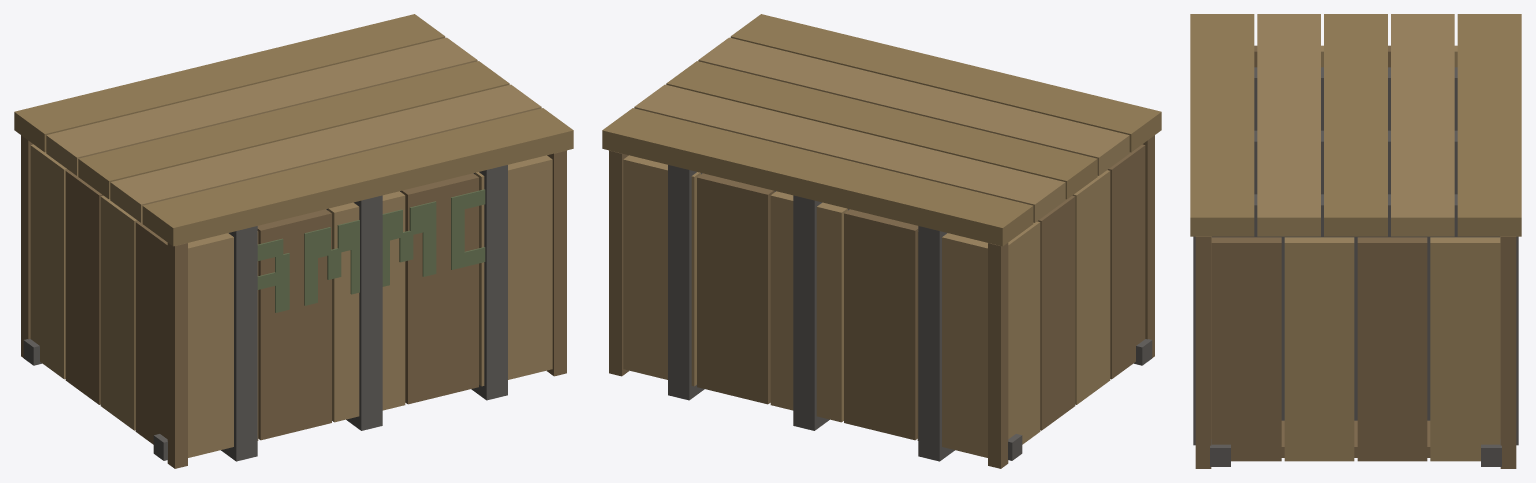
Rendered from yard_crate.glb.
The picture shows the model from 3 angles, left to right: view 1: azimuth 30°, elevation 25°; view 2: azimuth 150°, elevation 25°; view 3: azimuth 270°, elevation 25°; orthographic projection. The views are drawn at different scales.
Parts seen in each view (by area): view 1: CrateLid_0, CrateLid_1, CrateLid_4, CrateLid_2, CrateLid_3, CrateSlat_f_1, CrateSlat_f_3, CrateSlat_f_4, CrateSlat_f_0, CrateSlat_f_2, CrateSide_l_1, CrateSide_l_2 (+14 smaller); view 2: CrateLid_4, CrateSlat_b_3, CrateSlat_b_1, CrateLid_3, CrateLid_0, CrateLid_2, CrateLid_1, CrateSlat_b_2, CrateSlat_b_4, CrateSlat_b_0, CrateSide_l_2, CrateSide_l_1 (+8 smaller); view 3: CrateSide_r_1, CrateSide_r_2, CrateSide_r_0, CrateSide_r_3, CrateLid_0, CrateLid_4, CrateLid_1, CrateLid_2, CrateLid_3, CrateStrap_2, CratePost_ne, CratePost_se (+5 smaller).
Boxes of the visible parts, <box> form: CrateLid_0: <box>142,108,573,246</box>; CrateLid_1: <box>110,84,541,222</box>; CrateLid_4: <box>14,14,445,152</box>; CrateLid_2: <box>78,61,509,199</box>; CrateLid_3: <box>46,37,477,175</box>; CrateSlat_f_1: <box>257,209,331,440</box>; CrateSlat_f_3: <box>401,173,478,404</box>; CrateSlat_f_4: <box>475,155,552,386</box>; CrateSlat_f_0: <box>188,231,258,457</box>; CrateSlat_f_2: <box>328,191,405,422</box>; CrateSide_l_1: <box>100,195,138,430</box>; CrateSide_l_2: <box>65,170,103,404</box>; CrateLid_4: <box>602,108,1033,246</box>; CrateSlat_b_3: <box>697,173,774,404</box>; CrateSlat_b_1: <box>844,209,918,440</box>; CrateLid_3: <box>634,84,1065,222</box>; CrateLid_0: <box>730,14,1161,152</box>; CrateLid_2: <box>666,61,1097,199</box>; CrateLid_1: <box>698,37,1129,175</box>; CrateSlat_b_2: <box>770,191,847,422</box>; CrateSlat_b_4: <box>623,155,700,386</box>; CrateSlat_b_0: <box>917,231,987,457</box>; CrateSide_l_2: <box>1037,195,1075,430</box>; CrateSide_l_1: <box>1072,170,1110,404</box>; CrateSide_r_1: <box>1284,237,1354,461</box>; CrateSide_r_2: <box>1357,237,1427,461</box>; CrateSide_r_0: <box>1211,237,1281,461</box>; CrateSide_r_3: <box>1430,237,1500,461</box>; CrateLid_0: <box>1190,14,1254,236</box>; CrateLid_4: <box>1457,14,1521,236</box>; CrateLid_1: <box>1257,14,1320,236</box>; CrateLid_2: <box>1324,14,1387,236</box>; CrateLid_3: <box>1391,14,1454,236</box>; CrateStrap_2: <box>1193,194,1518,445</box>; CratePost_ne: <box>1500,236,1516,468</box>; CratePost_se: <box>1195,236,1211,468</box>.
Size of the model in its own units: 0.64 by 0.382 by 0.44.
